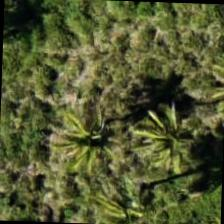Kelapa_Sawit: (122, 78, 215, 172), (40, 92, 132, 186), (75, 162, 169, 223)
